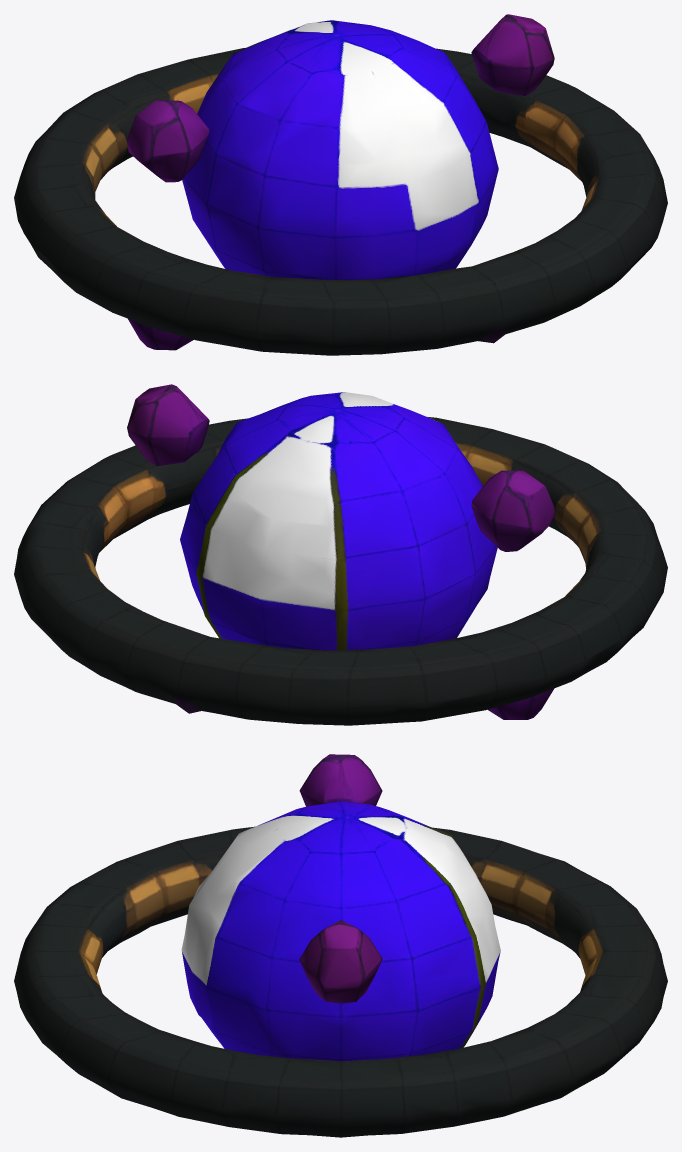
File: jump_gate.glb
3 views of the same model, one above another, from view 1: azimuth 30°, elevation 25°; view 2: azimuth 150°, elevation 25°; view 3: azimuth 270°, elevation 25° (orthographic).
Visible parts, largest first — view 1: world; view 2: world; view 3: world.
Part boxes in pixels (bbox=[...]): world: bbox=[14, 14, 667, 355]; world: bbox=[14, 384, 667, 725]; world: bbox=[14, 754, 667, 1137].
Bounding box in the file's own units: 0.9944 × 0.4511 × 0.9947.
Materials: 1 (1 with a texture image).
